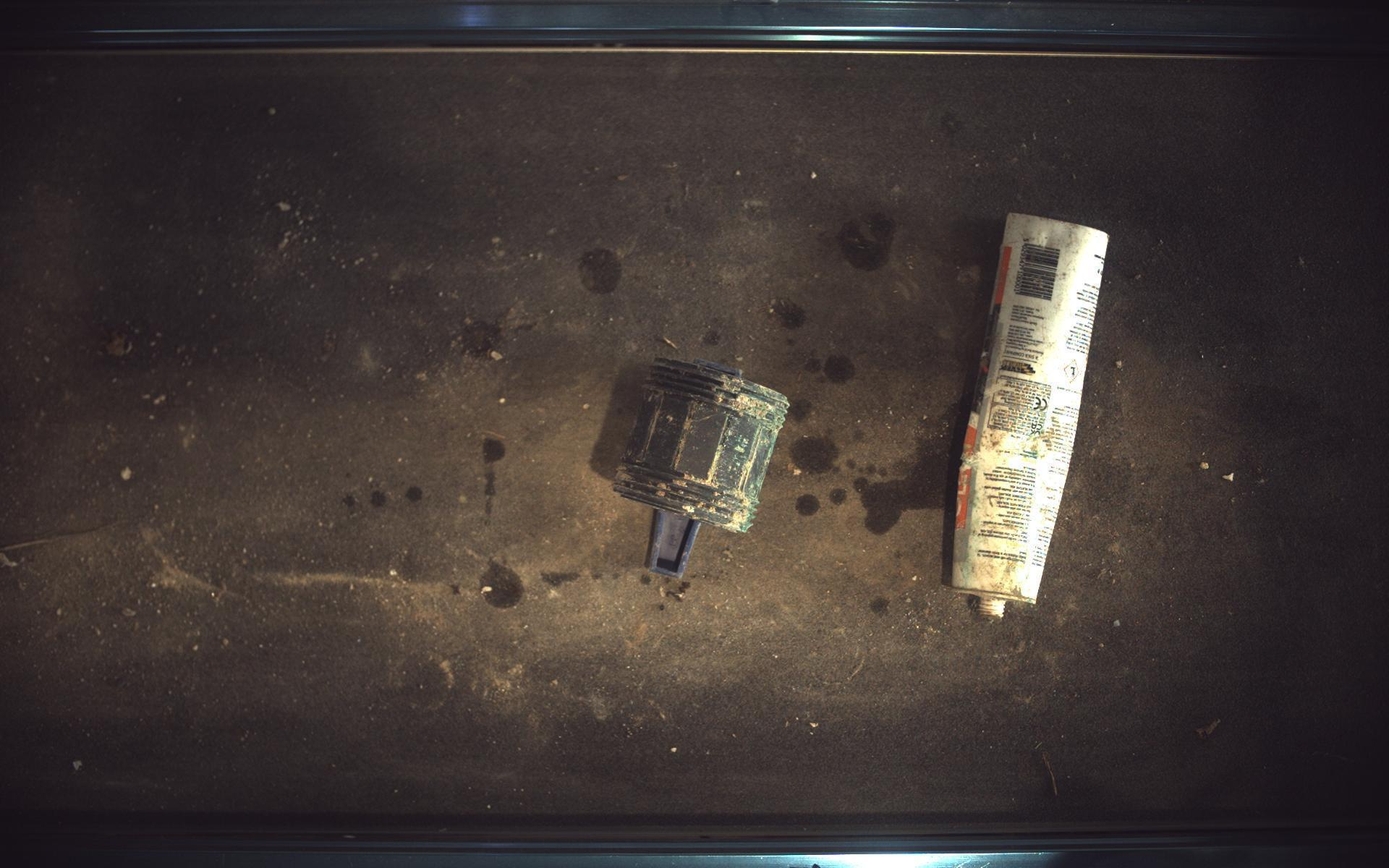plastic: (953, 212, 1110, 618), (614, 358, 790, 579)
